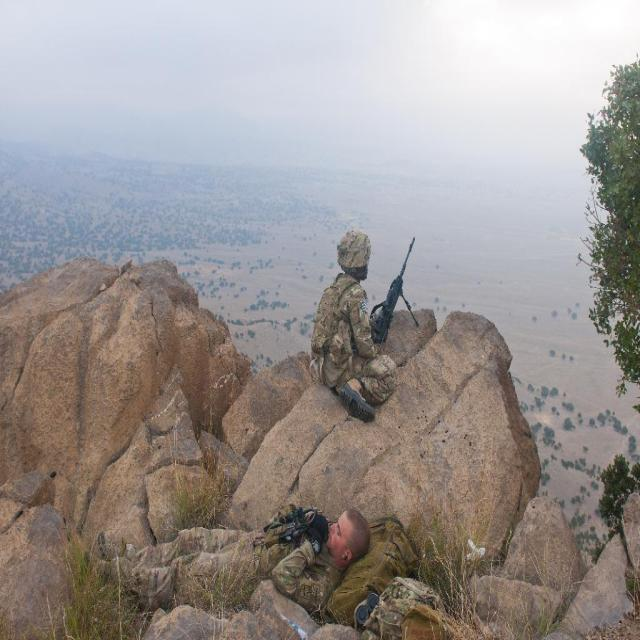Weapon: (356, 221, 442, 376), (242, 474, 356, 580)
